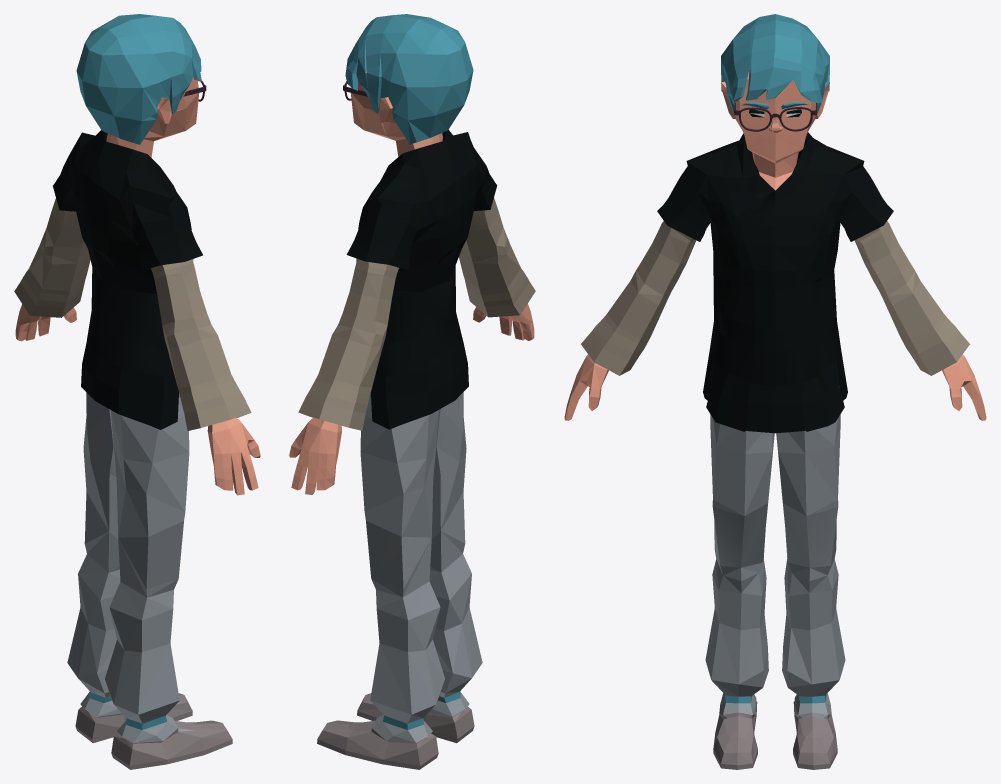
File: streber_empty.fbx
3 renders of one model, left to right at view 1: azimuth 30°, elevation 25°; view 2: azimuth 150°, elevation 25°; view 3: azimuth 270°, elevation 25°, orthographic.
Parts seen in each view (by area): view 1: Streber; view 2: Streber; view 3: Streber.
Boxes of the visible parts, x1,y1,x2,y2 form: Streber: (14, 14, 260, 769); Streber: (289, 14, 535, 769); Streber: (564, 14, 986, 769).
Size of the model in its own units: 3227 by 17665 by 9455.
